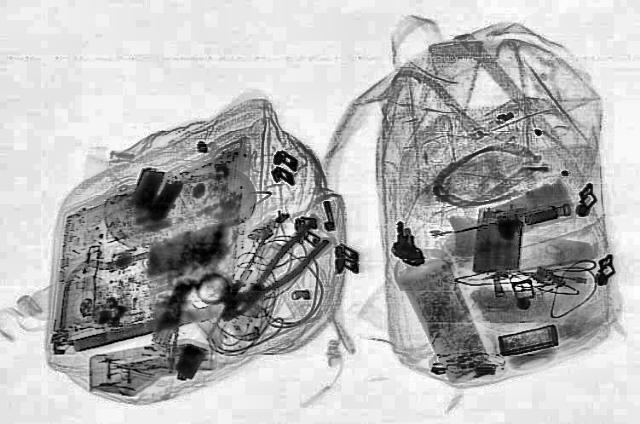Pliers: (207, 223, 339, 327)
